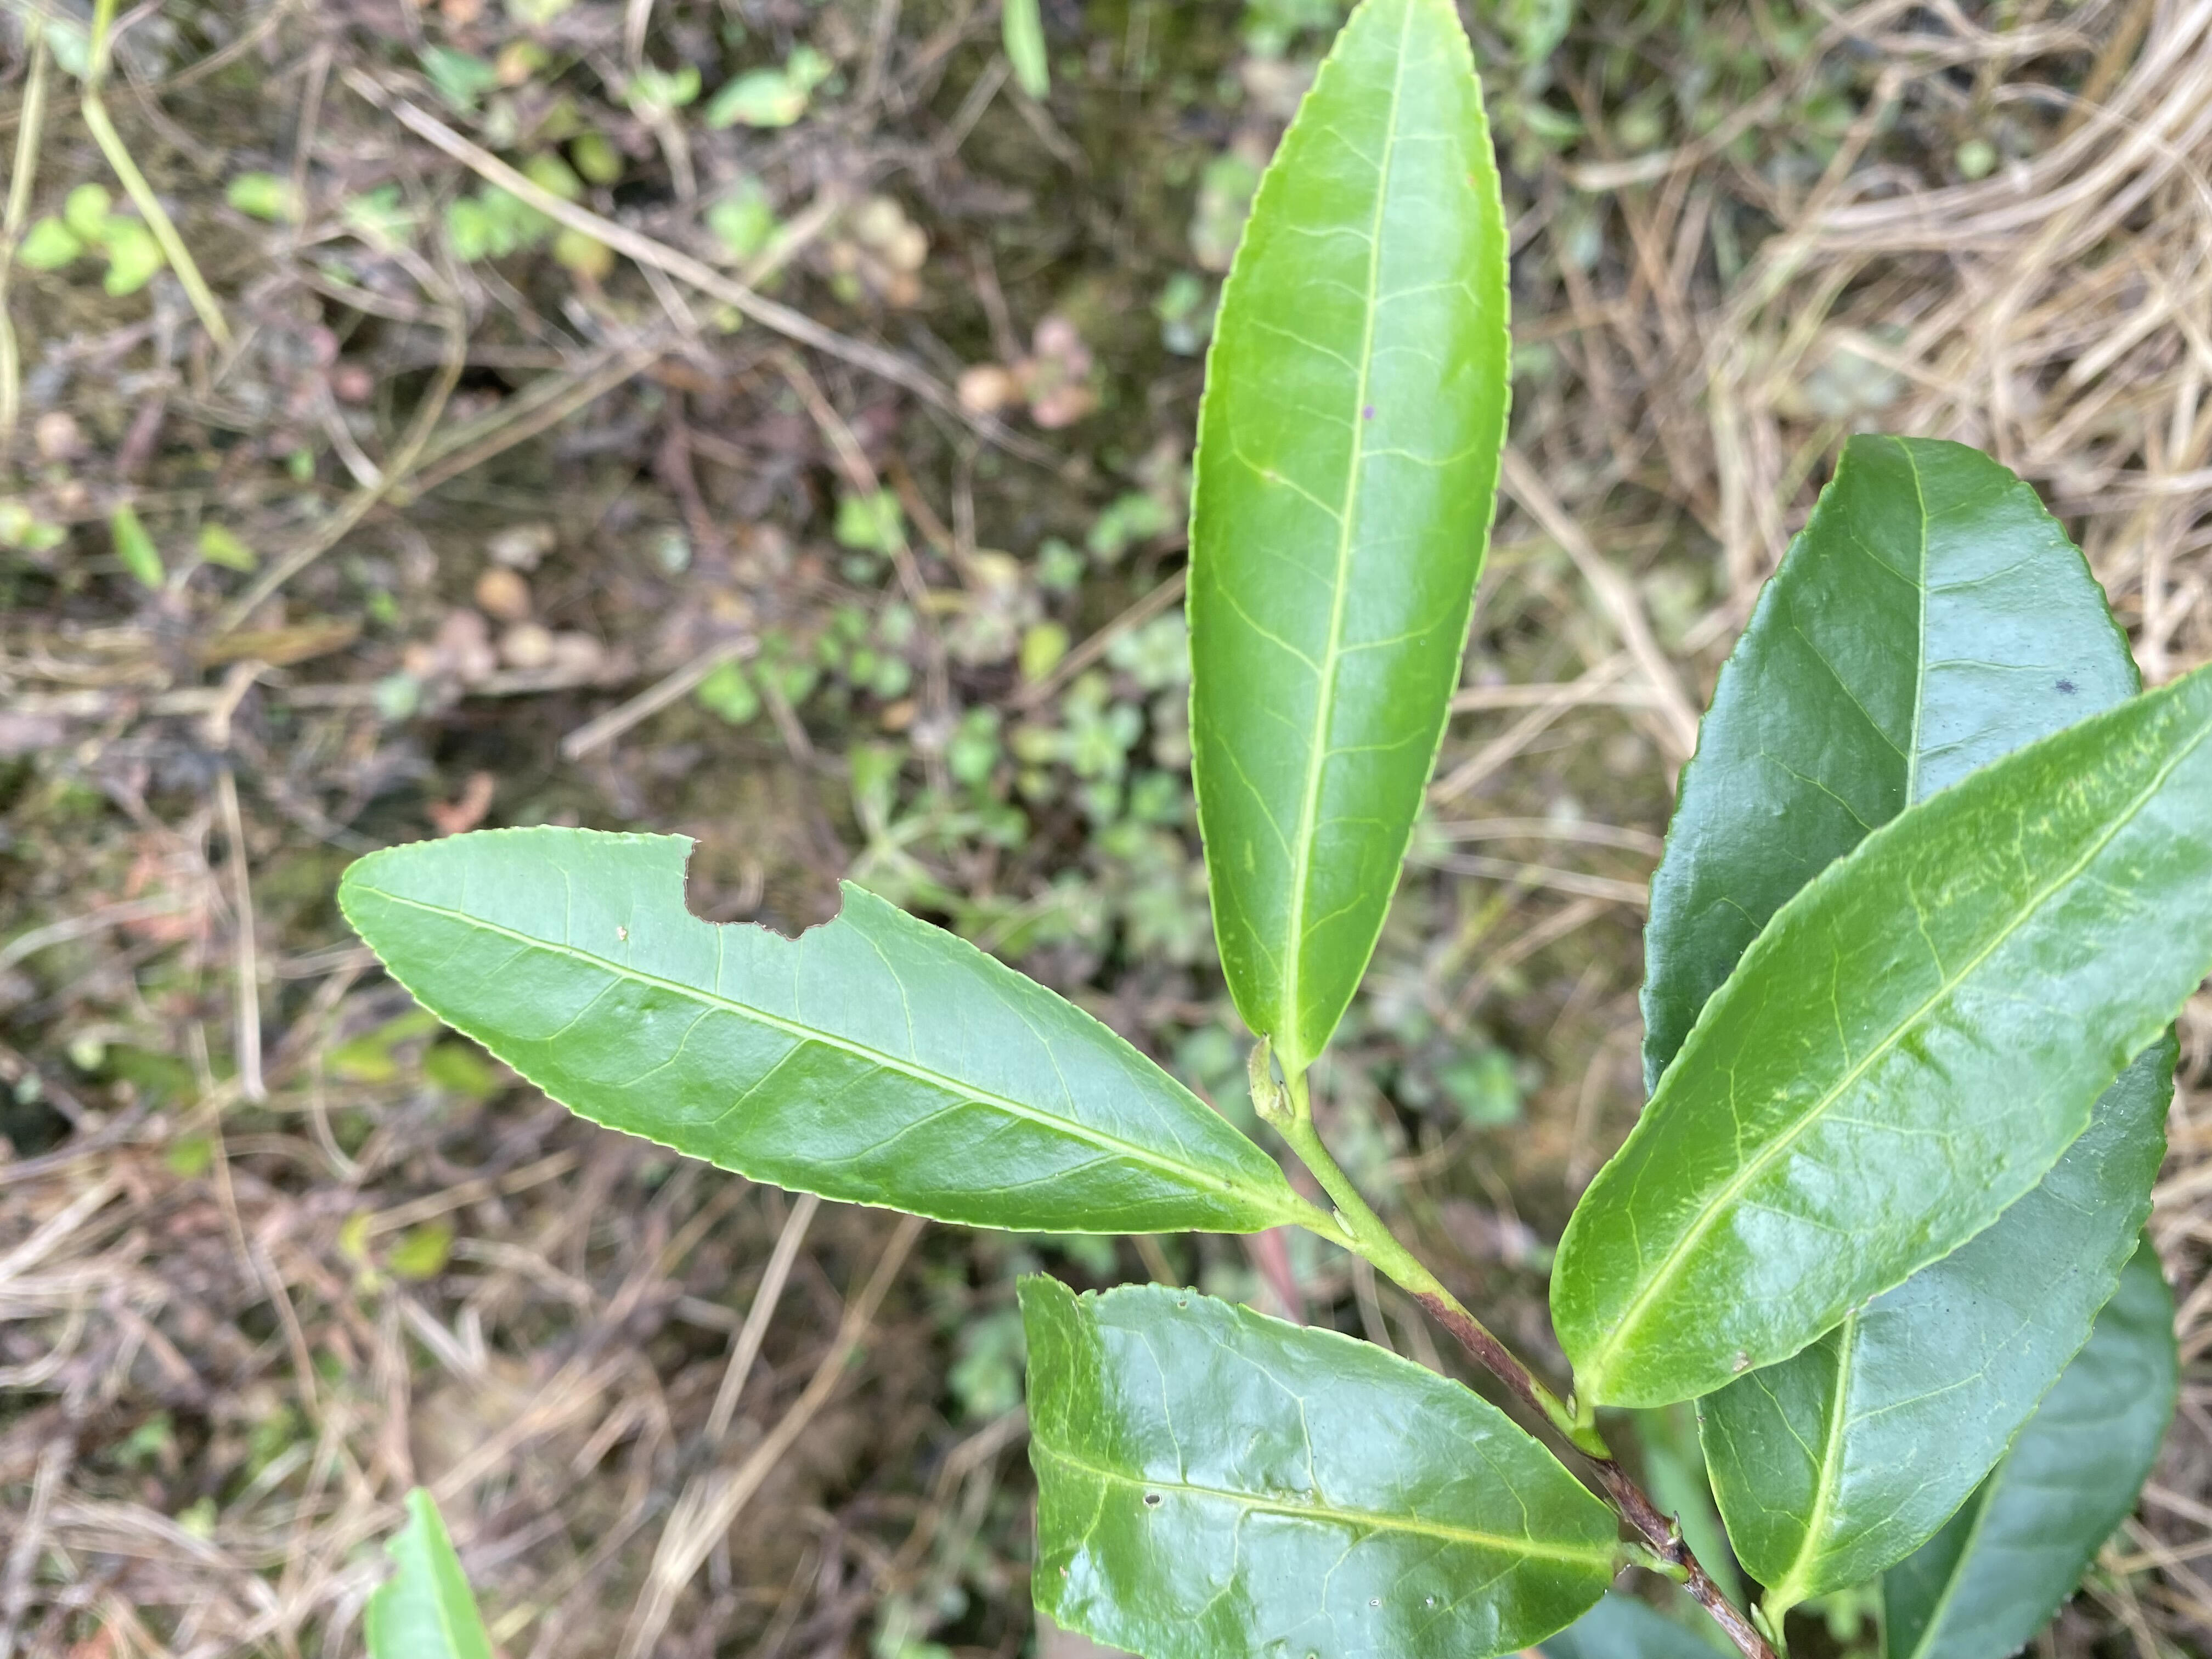chihuo_low: (338, 821, 1294, 1239)
healthy: (1183, 2, 1515, 1072)
